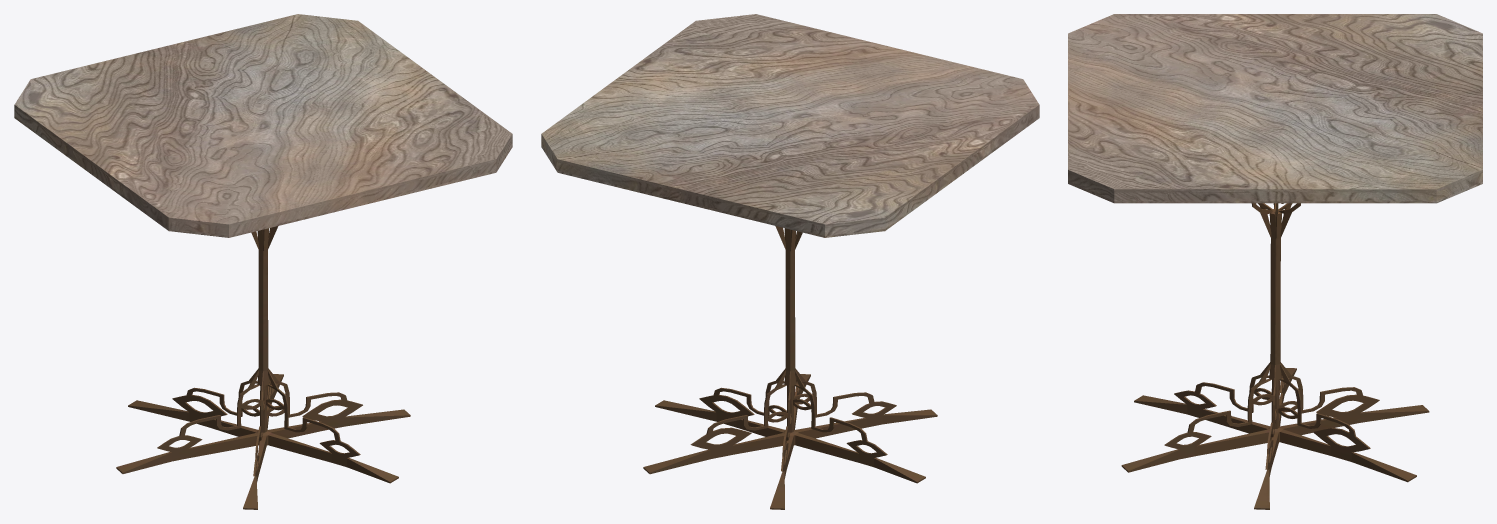
File: table3.glb
The picture shows the model from 3 angles, left to right: view 1: azimuth 30°, elevation 25°; view 2: azimuth 150°, elevation 25°; view 3: azimuth 270°, elevation 25°; orthographic projection. The views are drawn at different scales.
Visible parts, largest first — view 1: Object_3, Object_2; view 2: Object_3, Object_2; view 3: Object_3, Object_2.
Part boxes in pixels (bbox=[...]): Object_3: bbox=[14, 14, 512, 237]; Object_2: bbox=[116, 226, 410, 509]; Object_3: bbox=[541, 14, 1039, 237]; Object_2: bbox=[643, 226, 937, 509]; Object_3: bbox=[1068, 14, 1482, 203]; Object_2: bbox=[1121, 203, 1429, 509].
Size of the model in its own units: 10.41 by 9.36 by 10.41.
2 materials, 2 textured.
